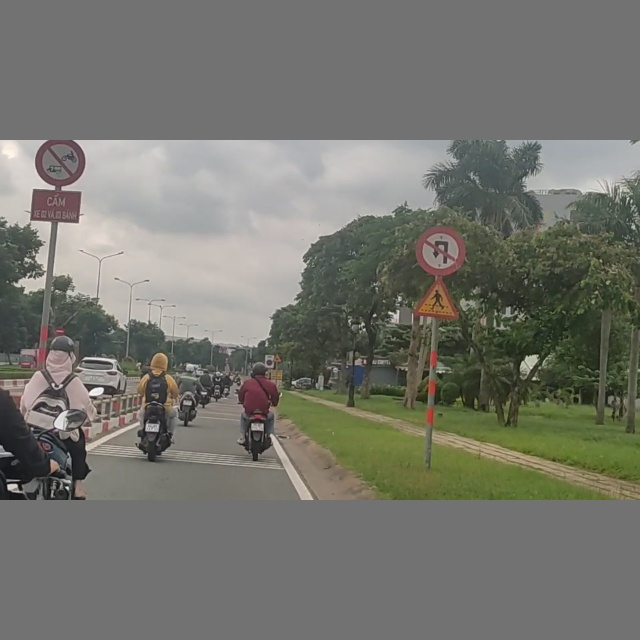P.102: (53, 326, 65, 335)
P.111: (35, 141, 87, 185)
P.124a*: (415, 225, 466, 275)
P.130: (267, 360, 273, 365)
W.224: (415, 275, 459, 319)
